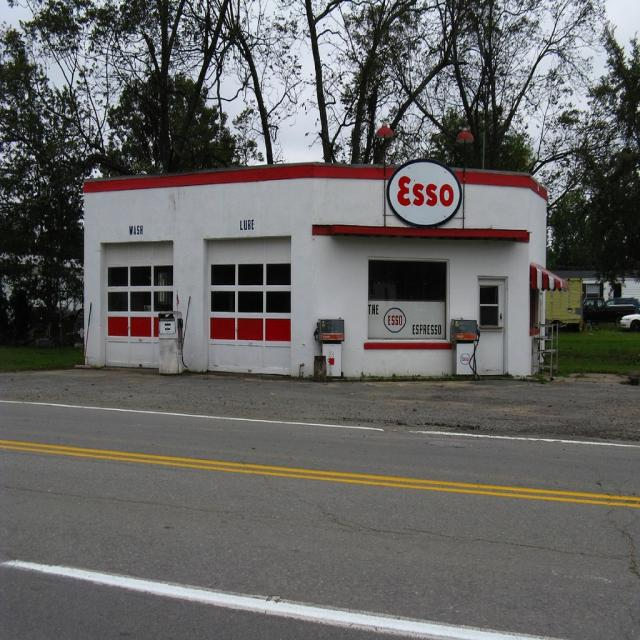esso: (386, 152, 468, 233), (384, 309, 406, 334)
